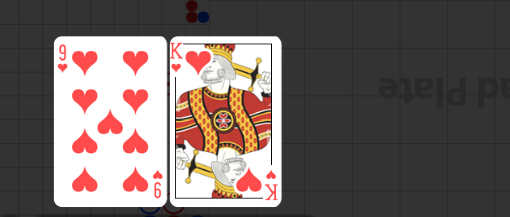9H: (56, 43, 69, 75)
KH: (264, 169, 280, 202)
